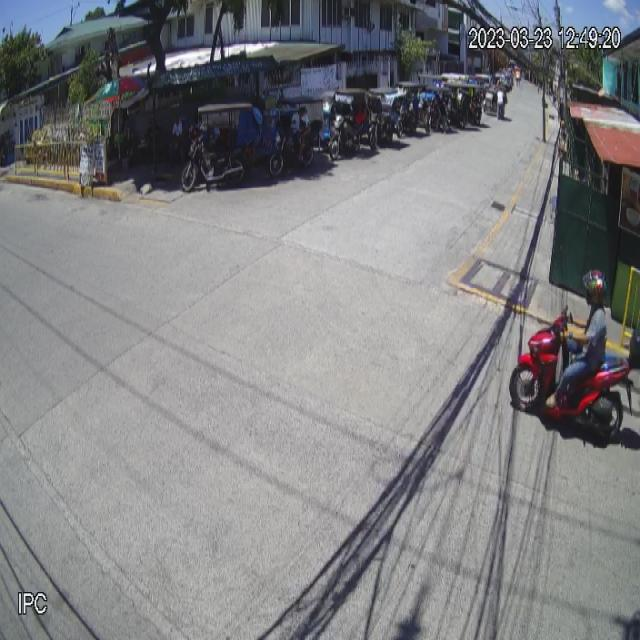Motorcycle: (508, 300, 640, 444)
